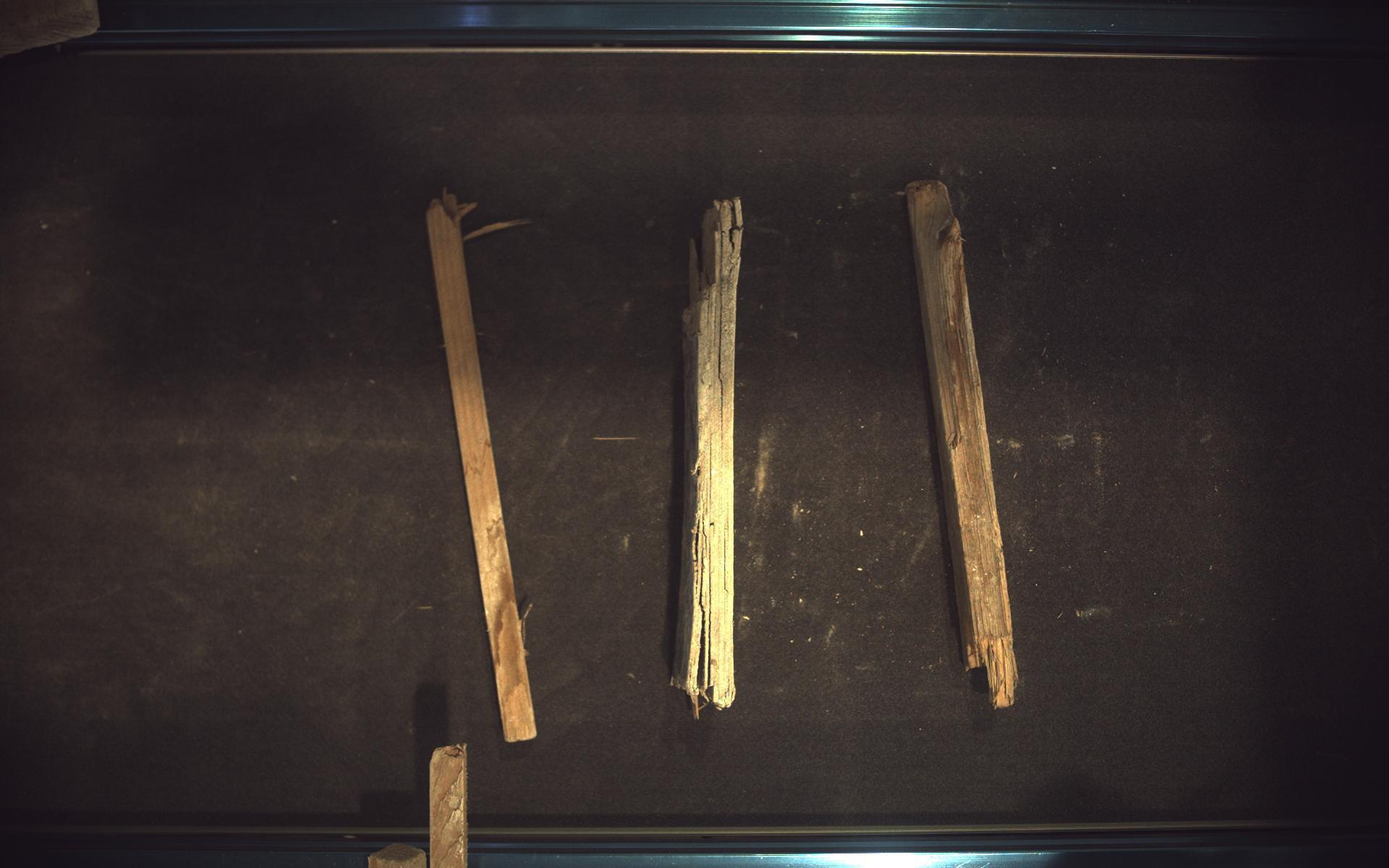wood: (428, 191, 537, 744), (908, 180, 1020, 709), (673, 197, 744, 718)
